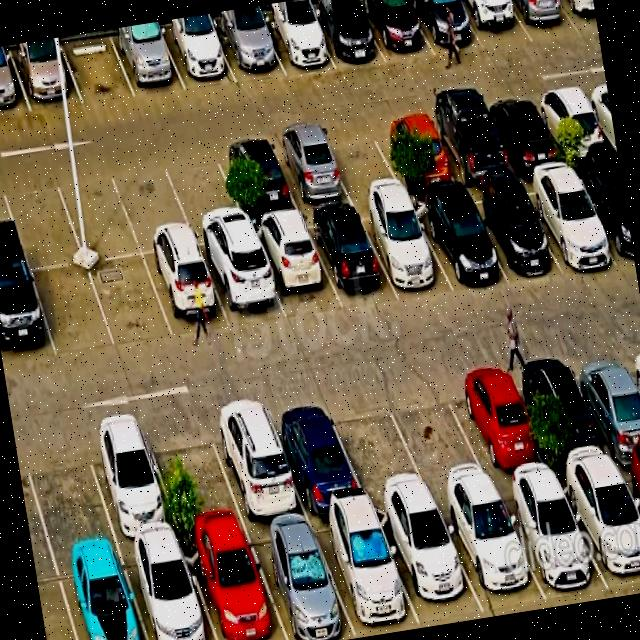empty: (382, 370, 494, 498), (142, 412, 246, 537), (324, 383, 431, 503), (19, 426, 117, 557), (161, 146, 250, 246), (53, 165, 142, 262), (111, 157, 196, 254), (0, 172, 84, 269), (88, 255, 174, 349), (32, 264, 115, 358), (319, 122, 403, 200), (60, 33, 135, 104)
occupied: (310, 508, 421, 638), (496, 479, 609, 601), (374, 501, 485, 624), (436, 488, 546, 612), (204, 396, 308, 526), (445, 360, 552, 486), (245, 520, 356, 640), (80, 418, 180, 545), (264, 392, 367, 515), (516, 350, 616, 475), (181, 529, 287, 640), (557, 465, 640, 597), (518, 168, 619, 271), (410, 192, 509, 292), (462, 183, 561, 282), (120, 538, 216, 640), (250, 216, 342, 321), (356, 200, 454, 297), (304, 207, 398, 308), (567, 343, 640, 464), (55, 548, 147, 640), (143, 247, 231, 339), (199, 240, 286, 329), (425, 103, 514, 185), (214, 138, 300, 221), (269, 130, 353, 210), (571, 162, 635, 267), (373, 113, 458, 188), (482, 93, 564, 170), (532, 85, 613, 160), (0, 267, 56, 367), (307, 0, 386, 69), (159, 22, 237, 91), (110, 27, 186, 97), (9, 41, 83, 112), (258, 9, 335, 75), (359, 0, 435, 64), (213, 16, 285, 82), (410, 0, 484, 56), (457, 0, 533, 52), (508, 0, 580, 42), (0, 49, 31, 116), (560, 0, 598, 34)
